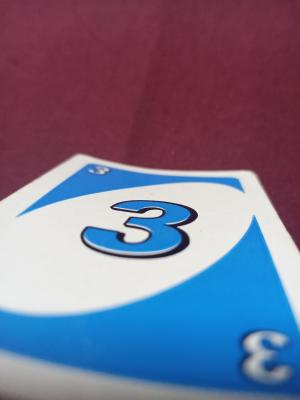blue: (62, 167, 258, 372)
